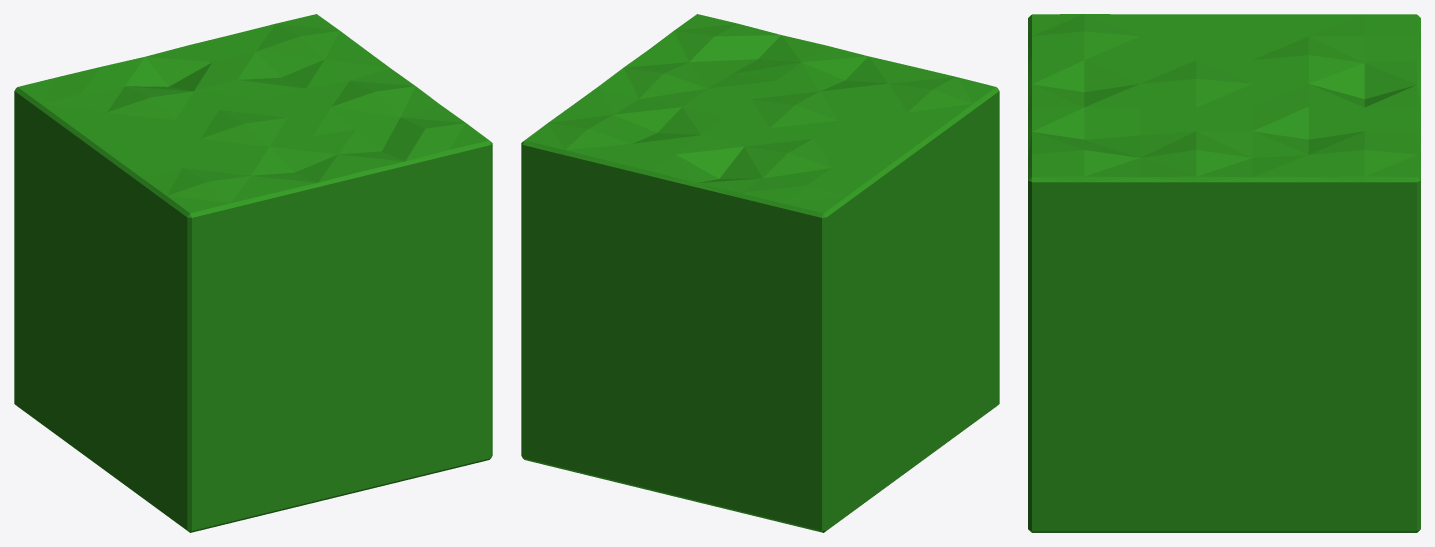
Rendered from floor1.obj.
3 views of the same model, side by side, from view 1: azimuth 30°, elevation 25°; view 2: azimuth 150°, elevation 25°; view 3: azimuth 270°, elevation 25° (orthographic). The views are drawn at different scales.
Visible parts, largest first — view 1: Floor1; view 2: Floor1; view 3: Floor1.
Part boxes in pixels (x1,y1,x2,y2): Floor1: (14,14,492,532); Floor1: (521,14,999,532); Floor1: (1028,14,1420,532).
Bounding box in the file's own units: 2 × 2.03 × 2.
